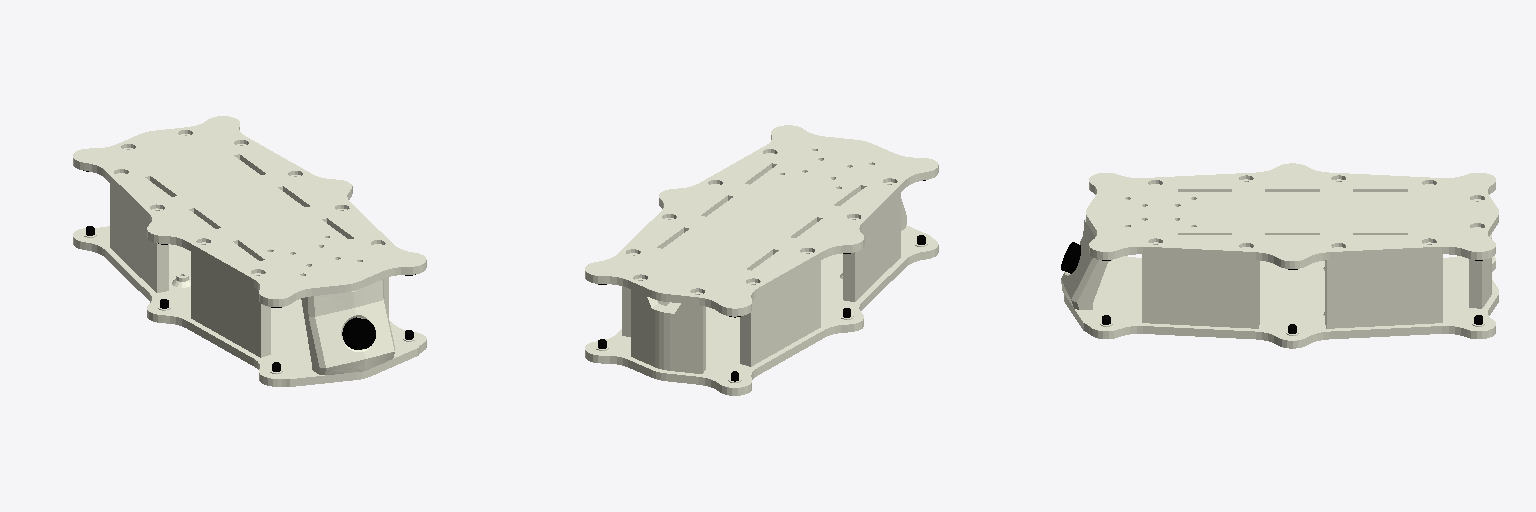
The model's file is body-merged.obj.
3 renders of one model, left to right at view 1: azimuth 30°, elevation 25°; view 2: azimuth 150°, elevation 25°; view 3: azimuth 270°, elevation 25°, orthographic.
Visible parts, largest first — view 1: Solid1.005; view 2: Solid1.005; view 3: Solid1.005.
Boxes of the visible parts, x1,y1,x2,y2 form: Solid1.005: [73, 116, 426, 386]; Solid1.005: [585, 125, 938, 395]; Solid1.005: [1061, 163, 1498, 348].
Size of the model in its own units: 106 by 44 by 200.